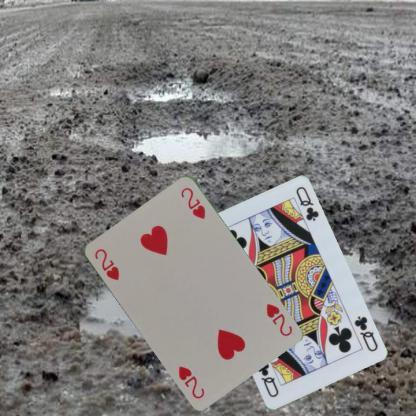2h: (263, 300, 293, 338), (91, 246, 120, 282)
Qc: (351, 313, 379, 353)
